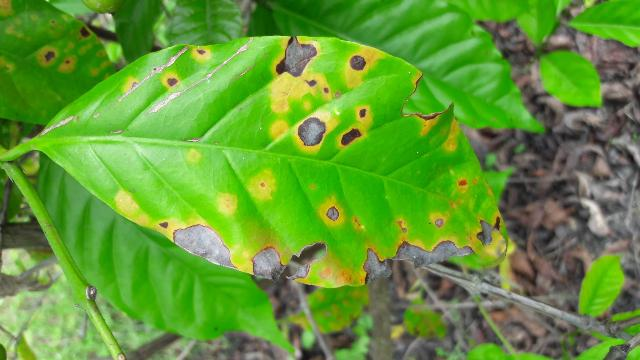rust_level_3: (37, 32, 508, 284)
